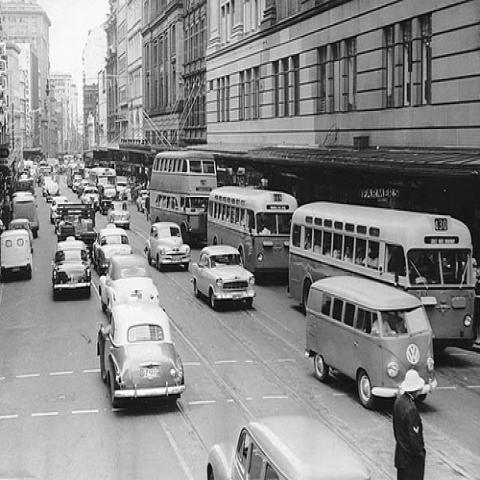bus: (287, 202, 477, 338), (304, 272, 435, 413), (201, 182, 293, 277), (149, 150, 217, 246)
car: (8, 155, 154, 240), (206, 414, 374, 478), (96, 300, 183, 408), (188, 242, 256, 315), (99, 253, 159, 320), (52, 241, 93, 301), (143, 220, 191, 271), (92, 224, 132, 277), (0, 230, 32, 282), (10, 218, 34, 253), (107, 199, 131, 228), (49, 196, 70, 225), (81, 187, 100, 211), (46, 184, 62, 202)
